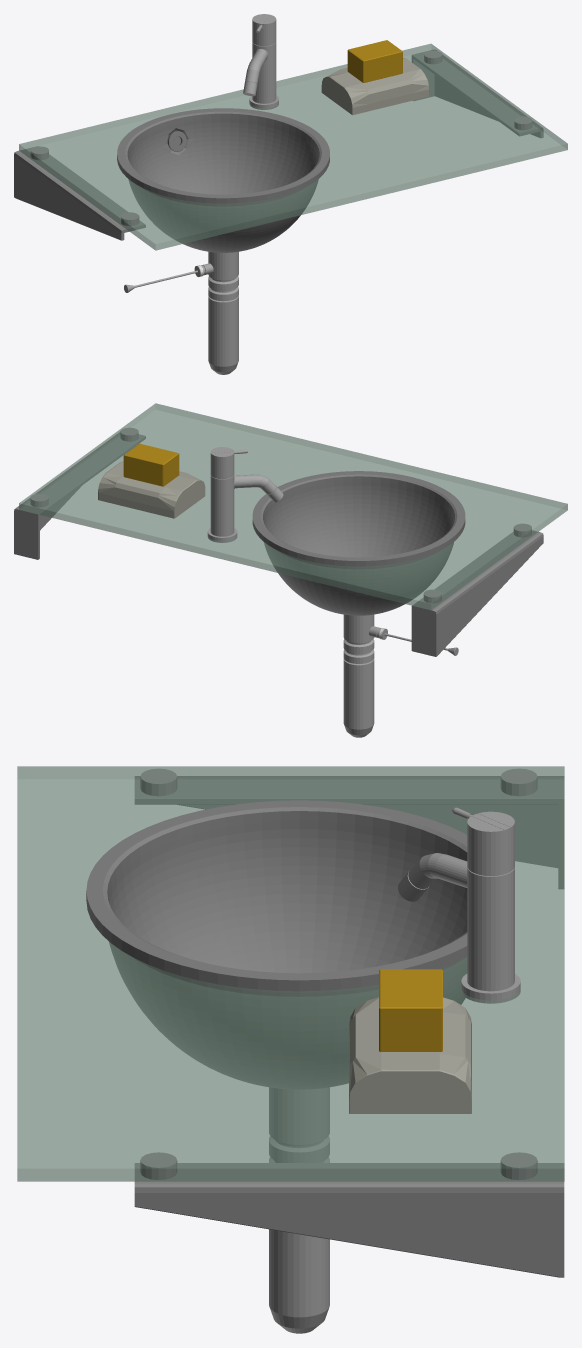
The model's file is bathroom3.obj.
3 views of the same model, one above another, from view 1: azimuth 30°, elevation 25°; view 2: azimuth 150°, elevation 25°; view 3: azimuth 270°, elevation 25° (orthographic). The views are drawn at different scales.
Parts seen in each view (by area): view 1: cristal_bajo.002_Circle.001, cristal_bajo_Circle, pica_agujereada_Sphere.001, soporte_r_Plane.001, tuberia_desague_Cylinder, soporte_l_Plane.002, jabonera_madera_Cube.003, grifo_mono_Circle.003, jabon_Cube.004; view 2: cristal_bajo.002_Circle.001, cristal_bajo_Circle, pica_agujereada_Sphere.001, soporte_r_Plane.001, tuberia_desague_Cylinder, soporte_l_Plane.002, jabonera_madera_Cube.003, grifo_mono_Circle.003, jabon_Cube.004; view 3: cristal_bajo.002_Circle.001, cristal_bajo_Circle, pica_agujereada_Sphere.001, soporte_l_Plane.002, soporte_r_Plane.001, grifo_mono_Circle.003, jabonera_madera_Cube.003, tuberia_desague_Cylinder, jabon_Cube.004, soporte_redondo_Cylinder.004, soporte_redondo.002_Cylinder.006, soporte_redondo.001_Cylinder.005 (+1 smaller).
Boxes of the visible parts, x1,y1,x2,y2 form: cristal_bajo.002_Circle.001: (19,44,567,250); cristal_bajo_Circle: (19,44,567,243); pica_agujereada_Sphere.001: (117,108,329,252); soporte_r_Plane.001: (14,146,145,240); tuberia_desague_Cylinder: (124,251,238,374); soporte_l_Plane.002: (412,50,543,137); jabonera_madera_Cube.003: (321,58,428,115); grifo_mono_Circle.003: (243,14,278,109); jabon_Cube.004: (347,40,402,82); cristal_bajo.002_Circle.001: (19,404,567,609); cristal_bajo_Circle: (19,403,566,603); pica_agujereada_Sphere.001: (252,471,465,615); soporte_r_Plane.001: (411,530,543,656); tuberia_desague_Cylinder: (343,614,458,737); soporte_l_Plane.002: (14,432,145,559); jabonera_madera_Cube.003: (98,461,205,518); grifo_mono_Circle.003: (207,447,283,542); jabon_Cube.004: (123,443,179,486); cristal_bajo.002_Circle.001: (17,766,564,1181); cristal_bajo_Circle: (17,766,564,1168); pica_agujereada_Sphere.001: (86,800,467,1089); soporte_l_Plane.002: (134,1163,564,1277); soporte_r_Plane.001: (135,776,563,888); grifo_mono_Circle.003: (398,807,520,1003); jabonera_madera_Cube.003: (349,997,471,1113); tuberia_desague_Cylinder: (269,1087,329,1333); jabon_Cube.004: (379,969,442,1051); soporte_redondo_Cylinder.004: (500,768,537,796); soporte_redondo.002_Cylinder.006: (140,1152,177,1179); soporte_redondo.001_Cylinder.005: (140,768,177,796).
Size of the model in its own units: 71.98 by 48.44 by 40.38.
